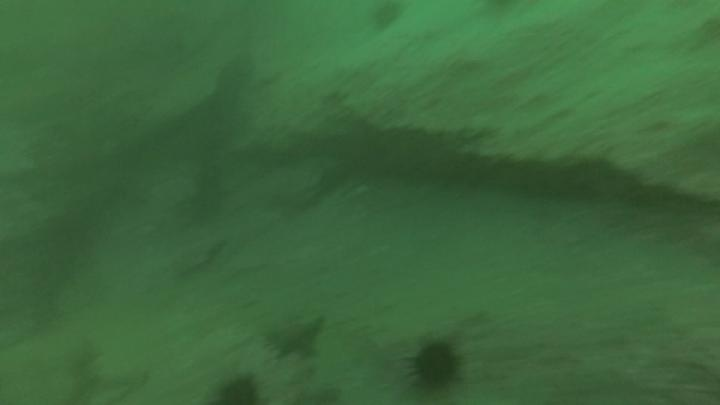echinus: (405, 337, 465, 394), (212, 372, 262, 404), (367, 1, 407, 35)
starfish: (261, 310, 328, 363)
